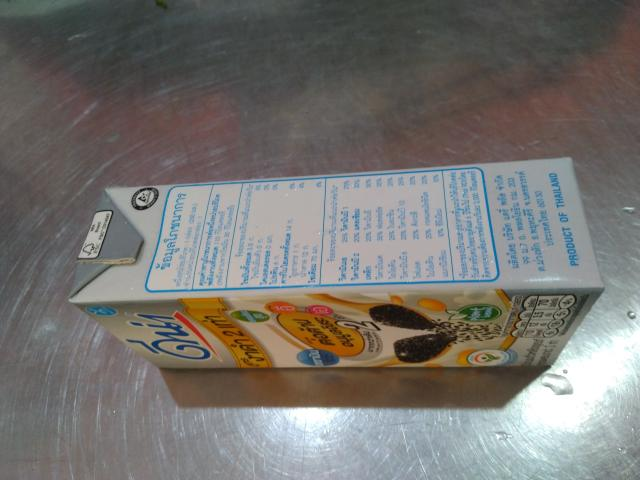drink_box: (59, 157, 610, 402)
